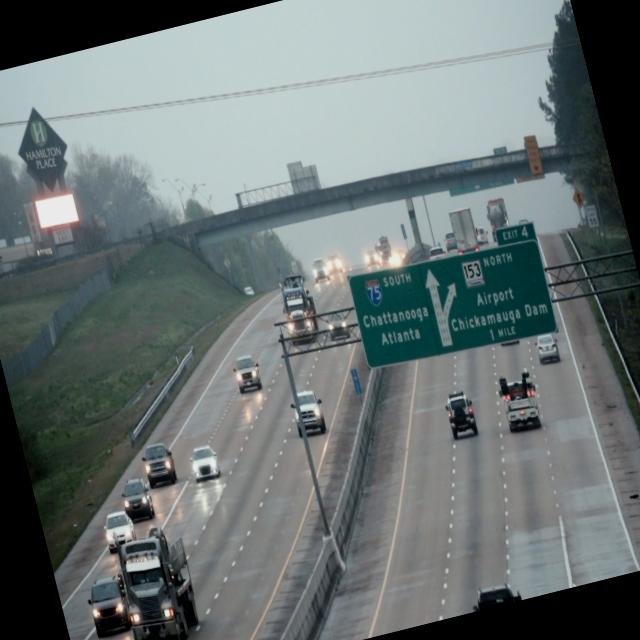Vehicle: (111, 521, 212, 640), (270, 267, 325, 349), (493, 372, 546, 437), (86, 575, 133, 640), (114, 465, 158, 524), (284, 384, 330, 438), (98, 502, 143, 554), (139, 440, 182, 489), (187, 438, 225, 488), (444, 390, 481, 440), (229, 351, 266, 396), (320, 306, 356, 346), (534, 331, 562, 365)
